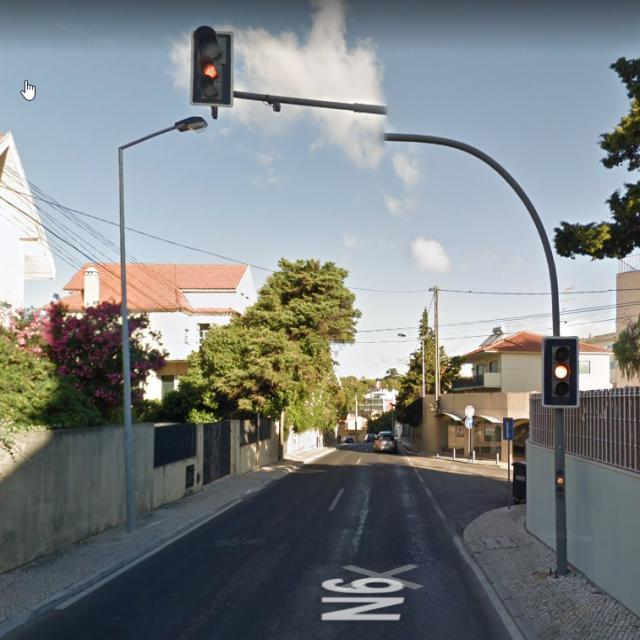yellow_light: (190, 25, 236, 106), (542, 336, 579, 408), (554, 468, 564, 496)
